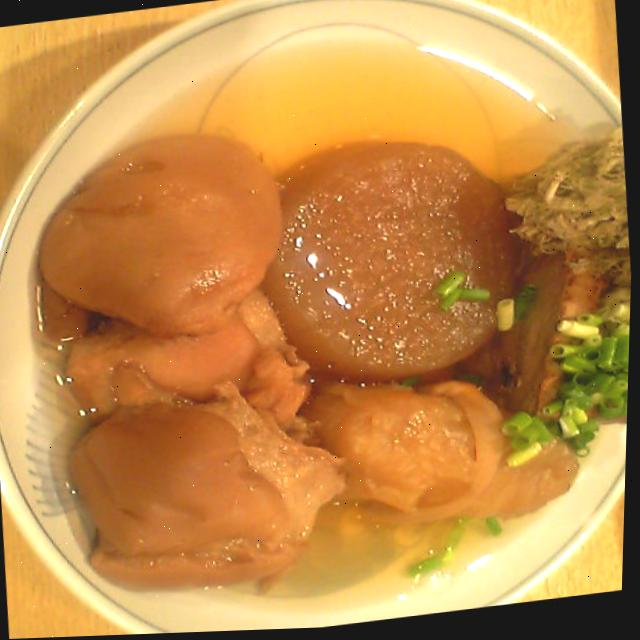汤锅炖物: (12, 79, 638, 608)
